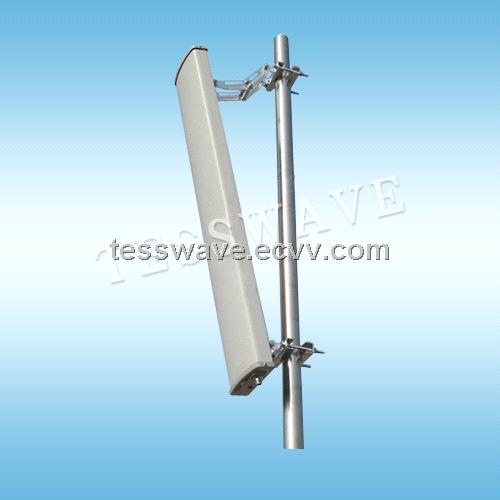sa: (166, 26, 333, 432)
